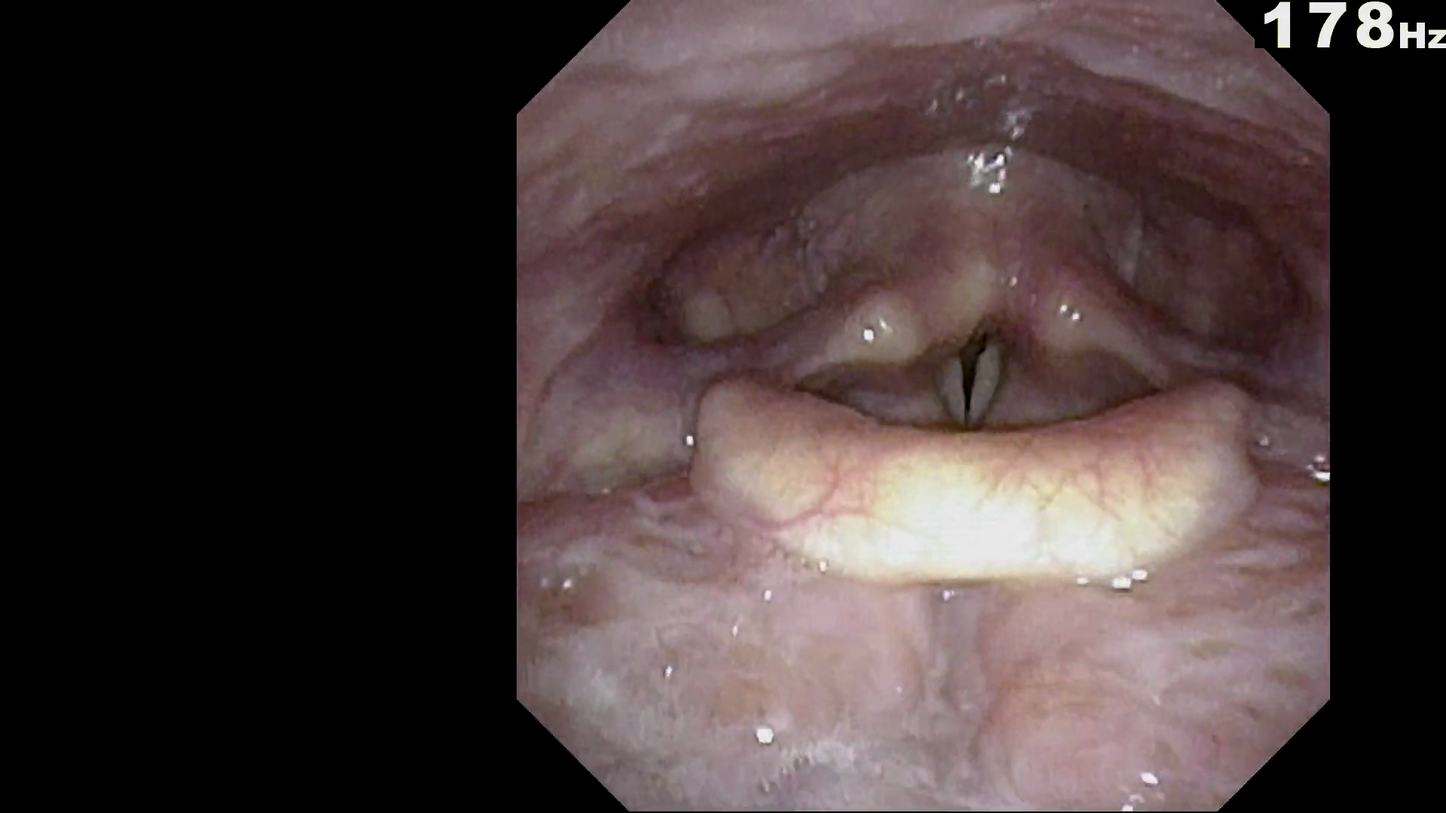epiglottis: (680, 352, 1278, 631)
trachea: (918, 312, 1025, 442)
